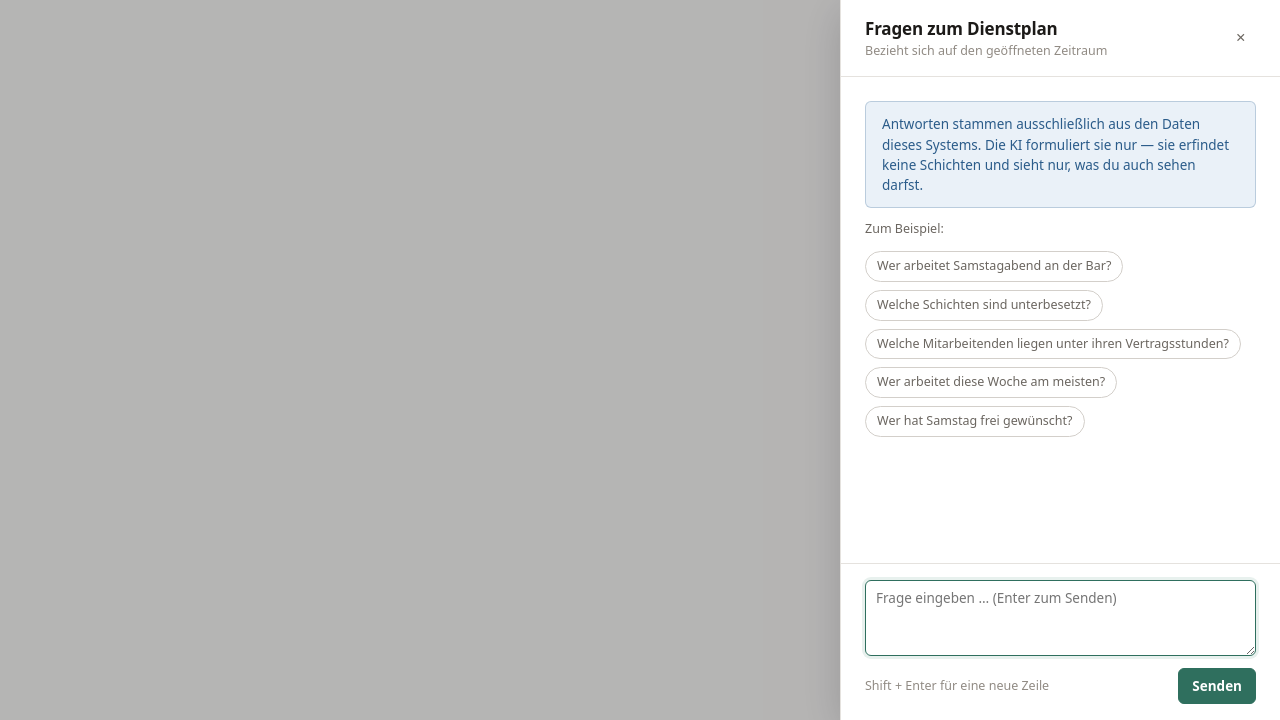
ChatDrawer › explains that planning still works when the local model is down
This screenshot has width=1280, height=720.
Type "Wer arbeitet Samstag?" into the text box with placeholder "Frage eingeben … (Enter zum Senden)" at (1060, 618), box [865,580,1256,656]
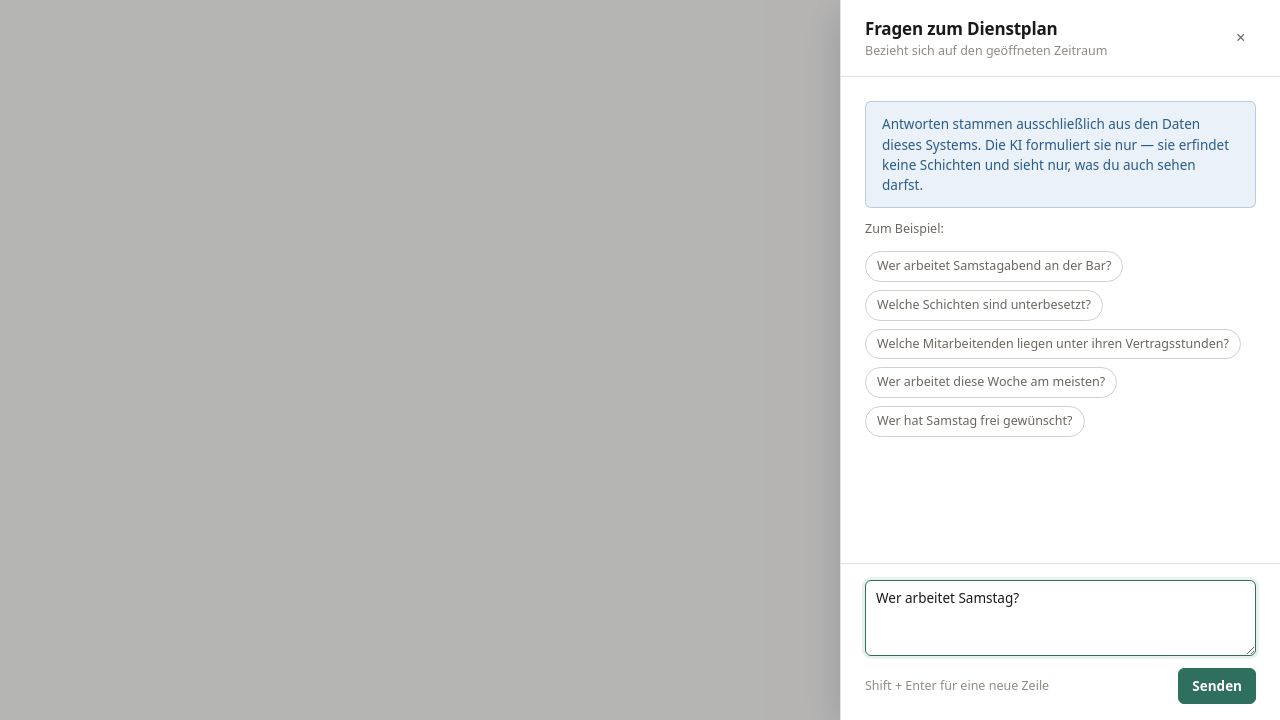
Click the button "Senden" at (1217, 686), box [1178,668,1256,704]
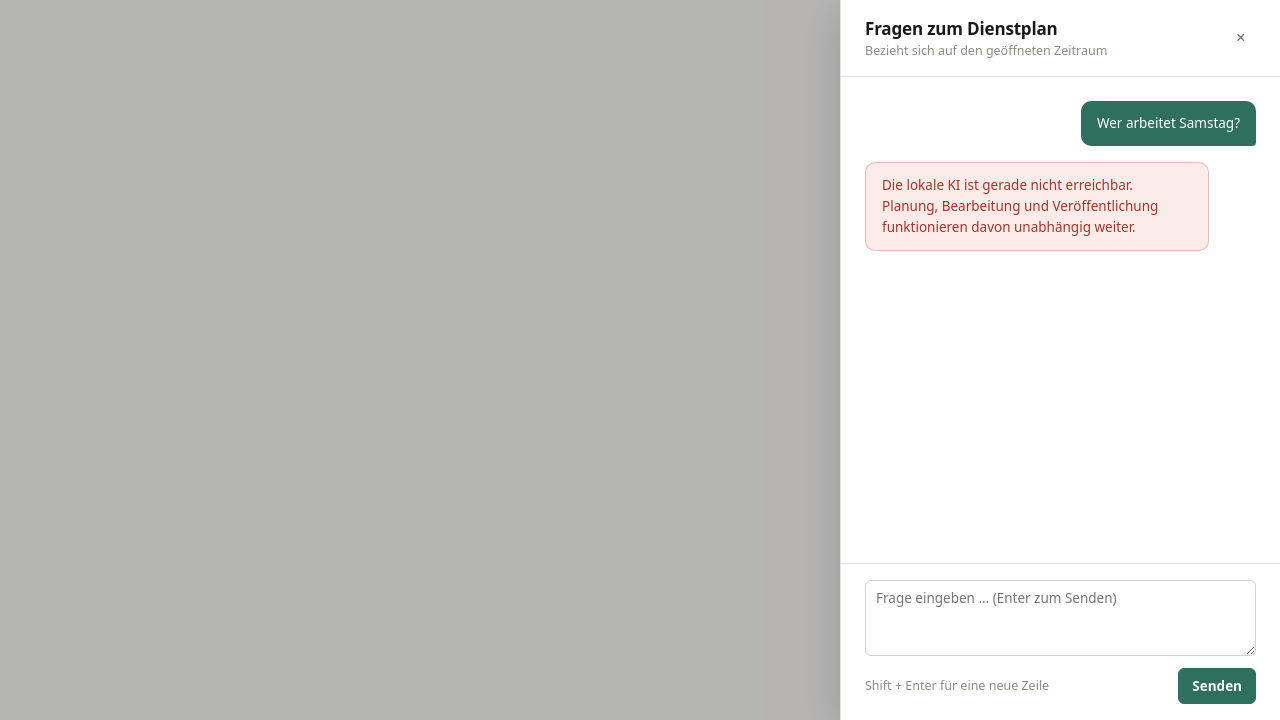
Now the text "nicht erreichbar" shows "Planung, Bearbeitung und Veröffentlichung", box [882,176,1162,236]
